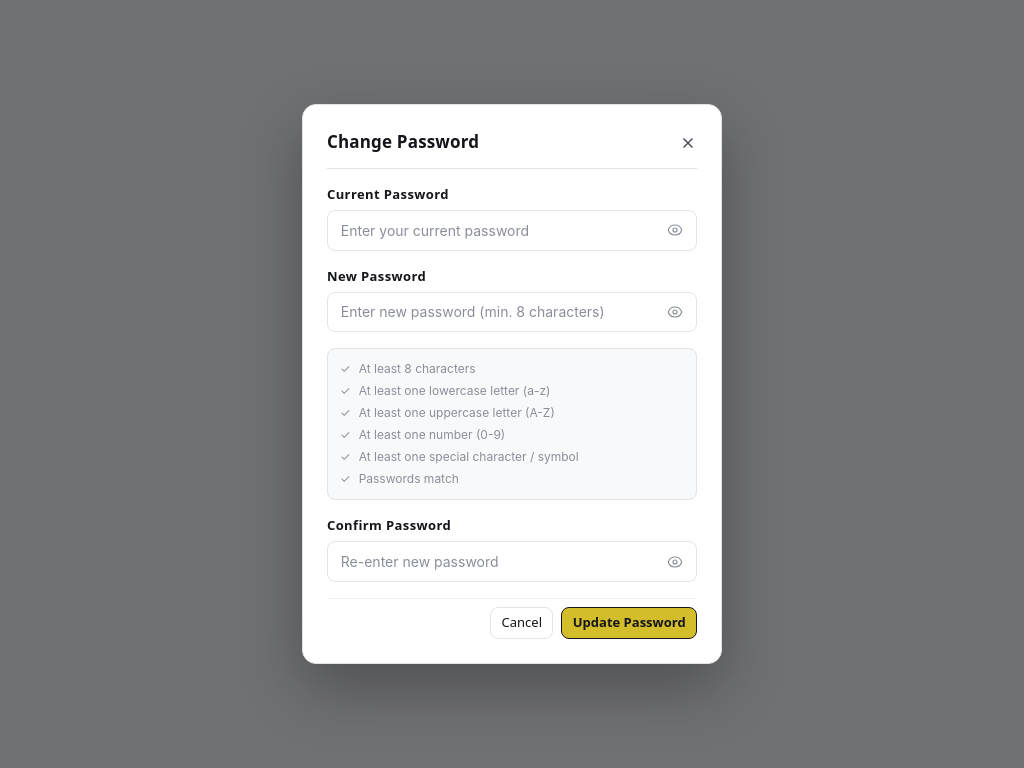
Scenario: ChangePasswordModal › requires current password before submitting
Step 1. Type "Secret123!" into the password field labelled "New Password" → [512, 312], box [327, 292, 697, 332]
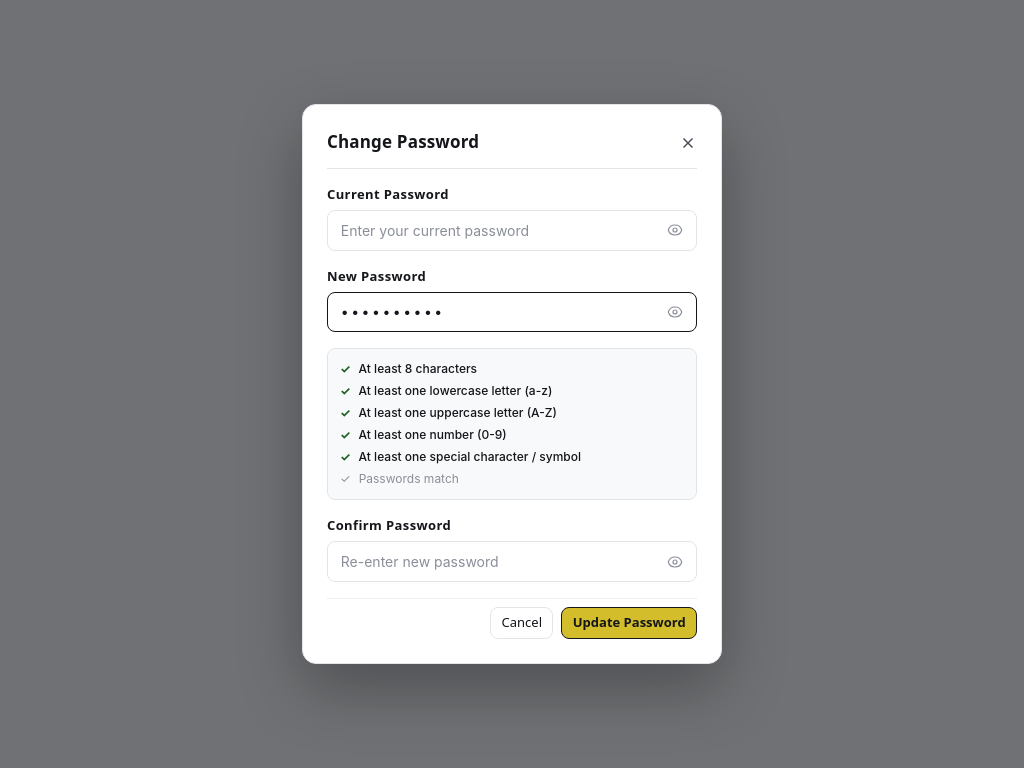
Step 2. Type "Secret123!" into the password field labelled "Confirm Password" → [512, 562], box [327, 541, 697, 582]
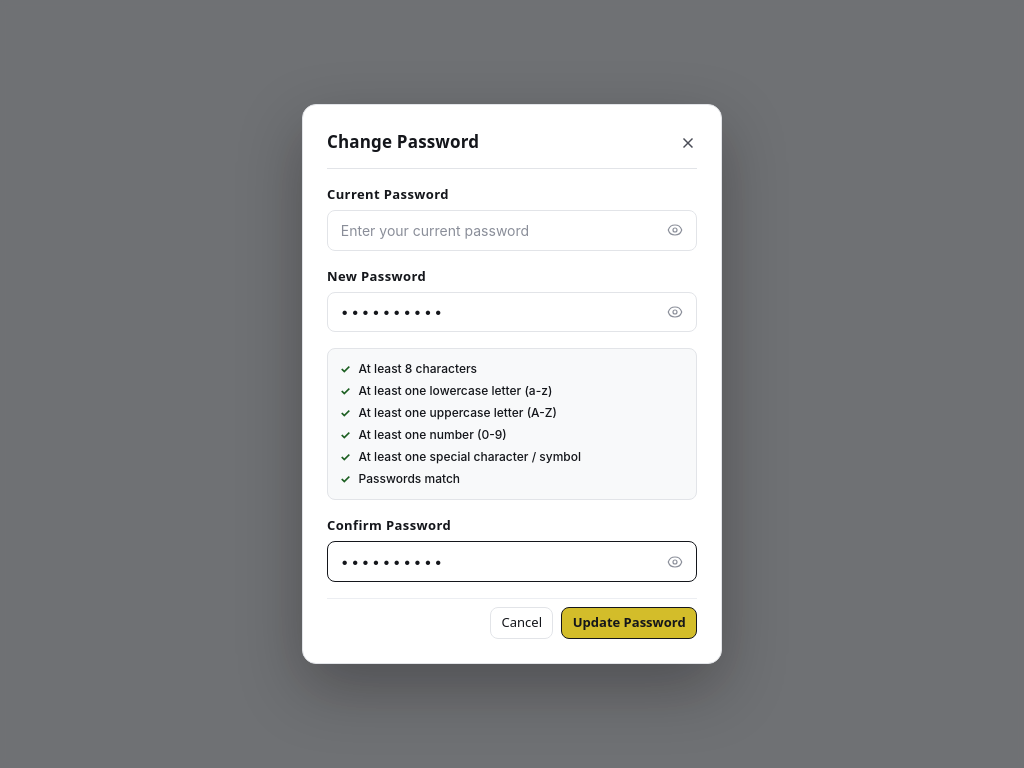
Step 3. Click the button "Update Password" → [629, 623], box [561, 607, 697, 639]
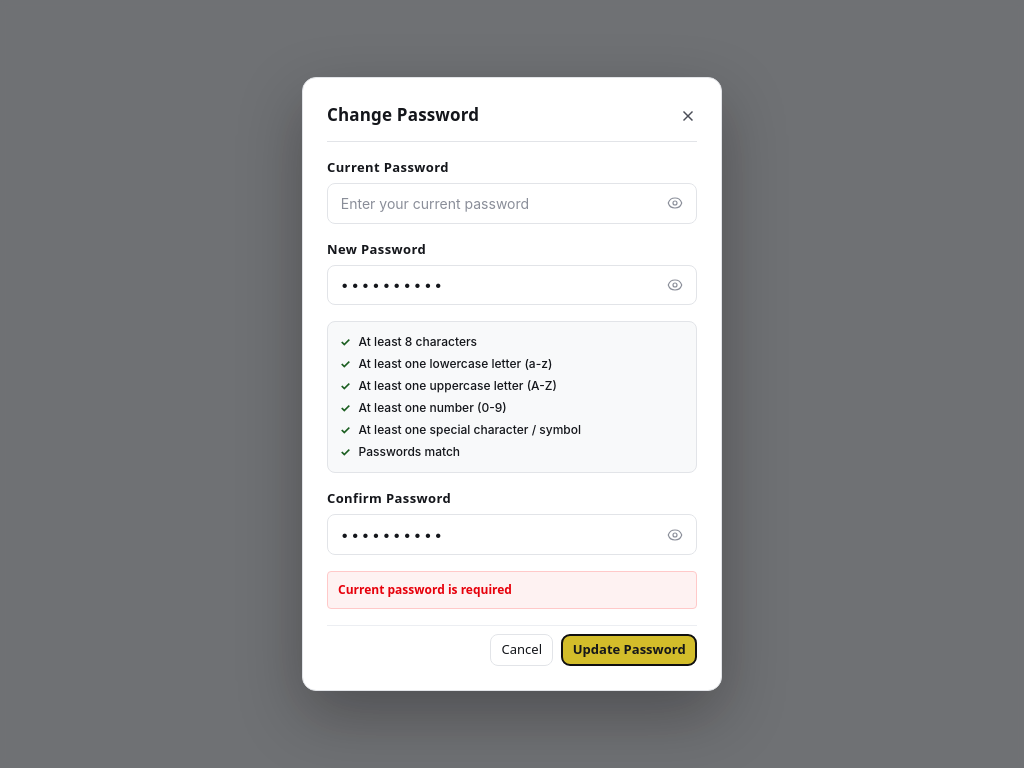
Check: the text "Current password is required" is shown, box [327, 571, 697, 609]
